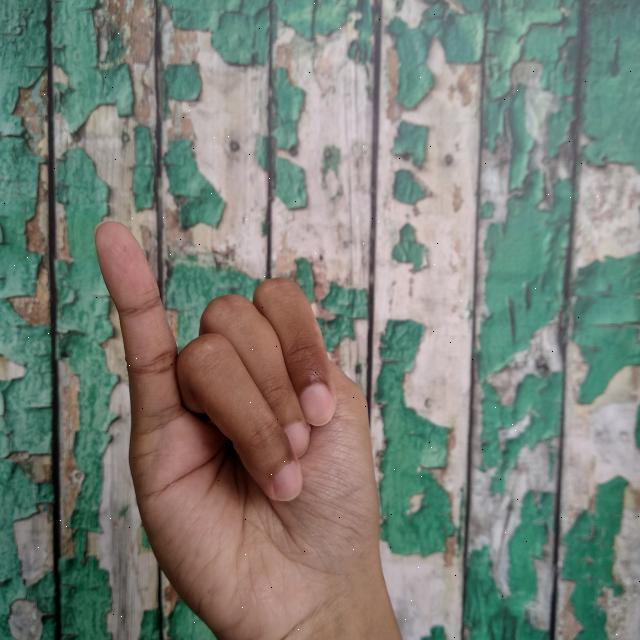I: (86, 214, 408, 640)
